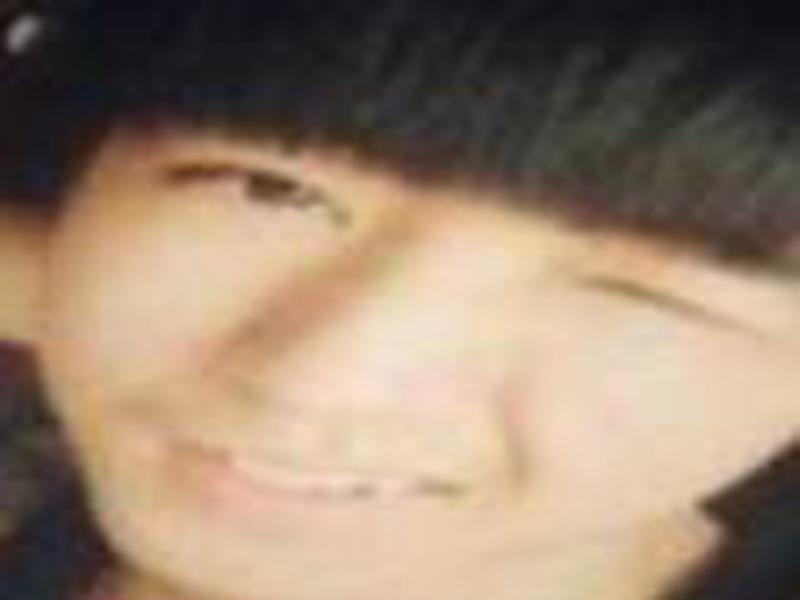without_mask: (44, 106, 795, 585)
